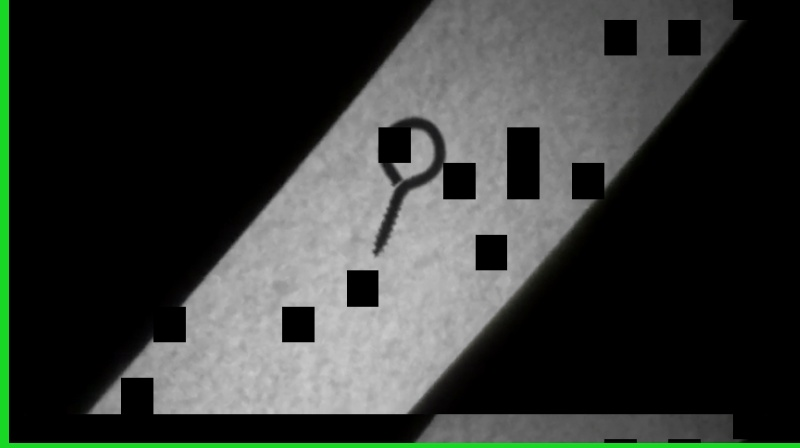O001: (368, 113, 449, 259)
